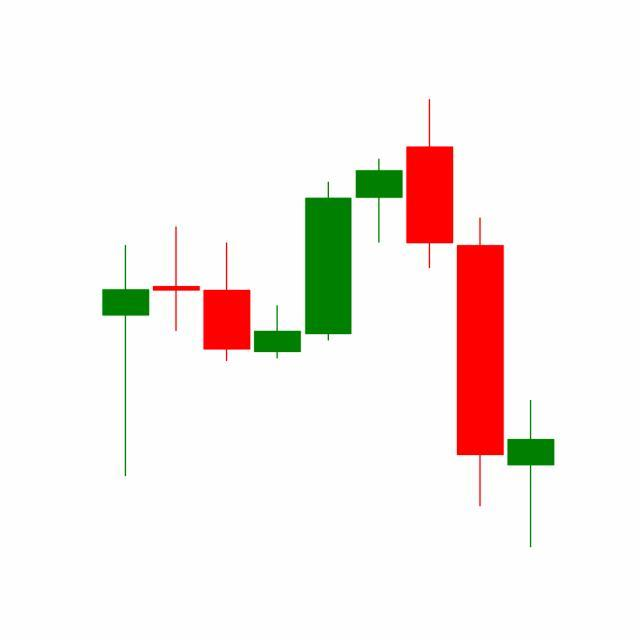Hikkake Pattern: (252, 99, 506, 512)
